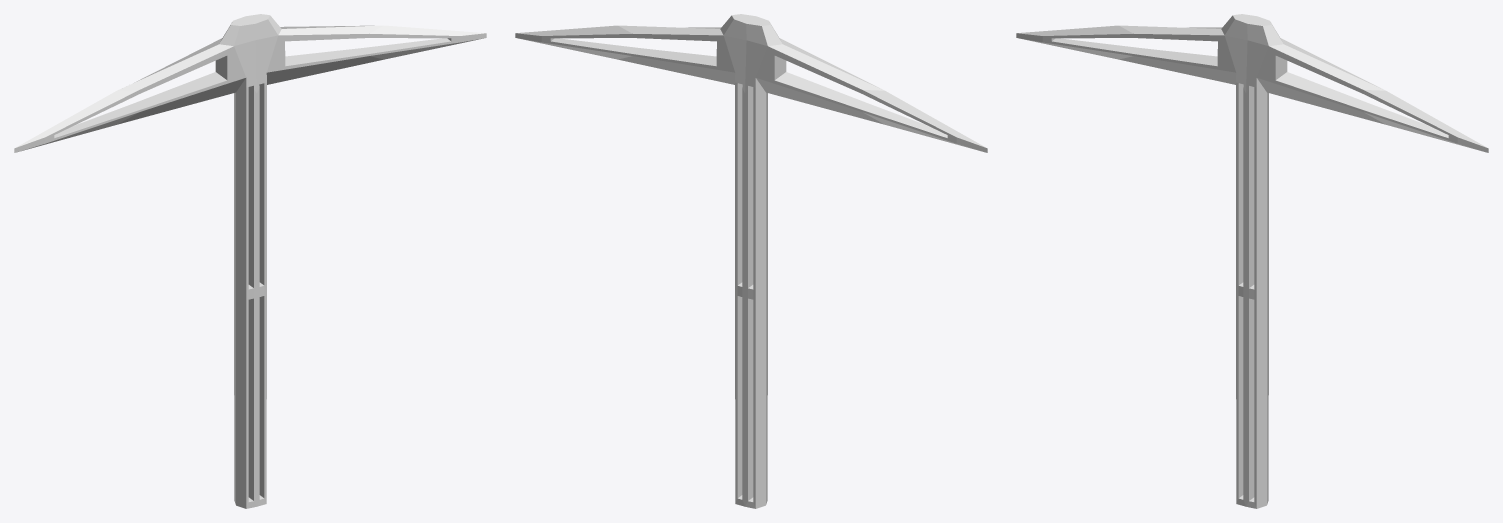
File: LightPick.fbx
3 views of the same model, side by side, from view 1: azimuth 30°, elevation 25°; view 2: azimuth 150°, elevation 25°; view 3: azimuth 330°, elevation 25° (orthographic).
Visible parts, largest first — view 1: Cylinder; view 2: Cylinder; view 3: Cylinder.
Boxes of the visible parts, bbox=[...] form: Cylinder: bbox=[14, 14, 486, 508]; Cylinder: bbox=[515, 14, 987, 508]; Cylinder: bbox=[1016, 14, 1488, 508].
Bounding box in the file's own units: 151 × 147 × 7.11.
